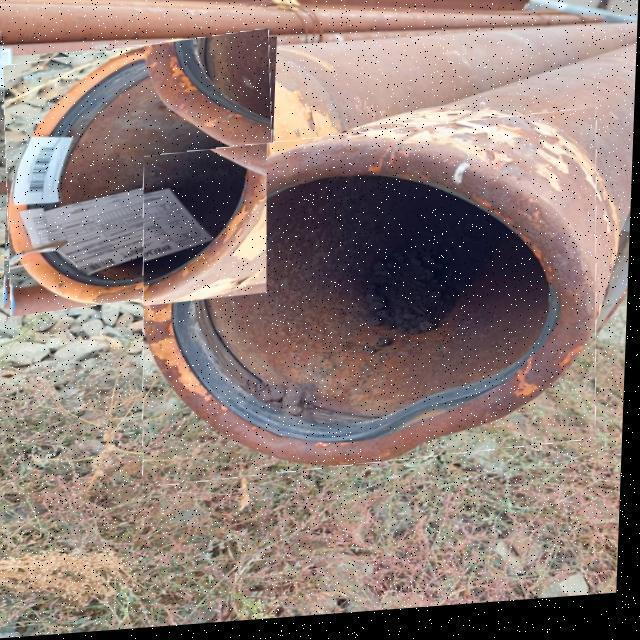pipe: (146, 117, 599, 490), (4, 32, 278, 317)
